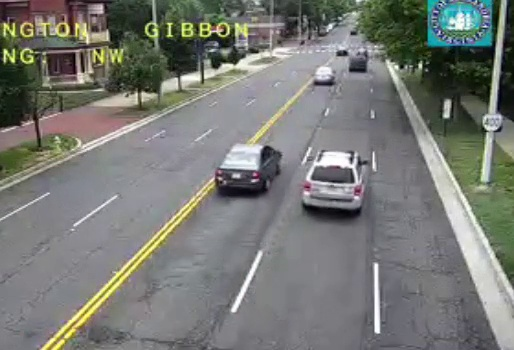car: (301, 151, 364, 212), (215, 144, 283, 188), (314, 67, 334, 84)
